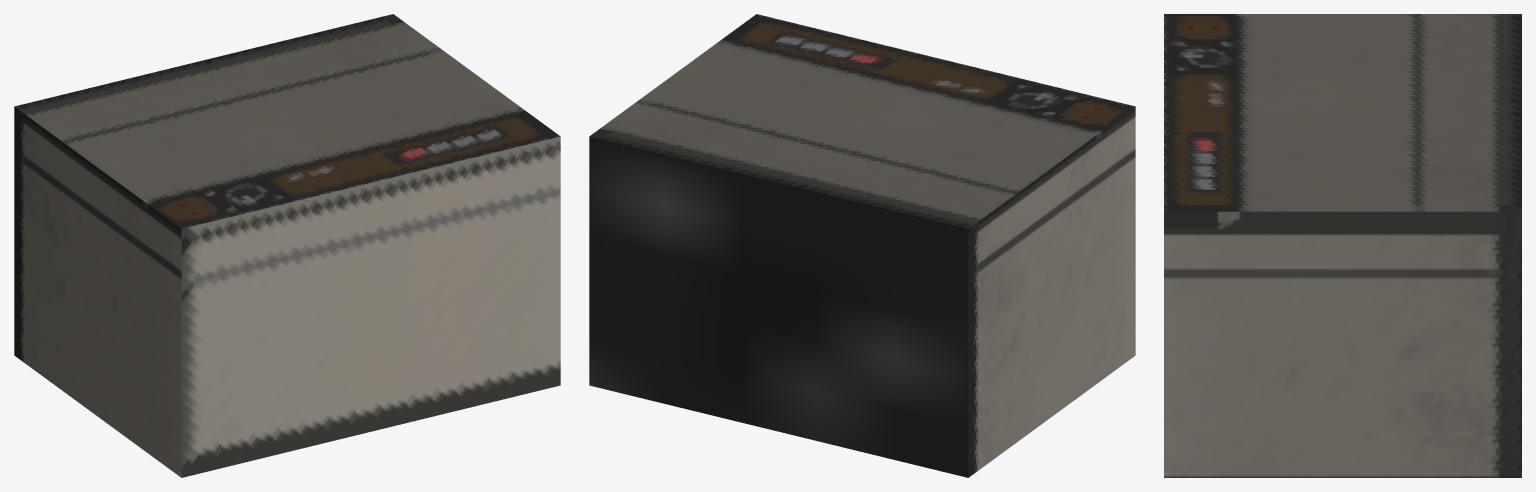
The model's file is pz_g016_brown_dishwasher.obj.
3 renders of one model, left to right at view 1: azimuth 30°, elevation 25°; view 2: azimuth 150°, elevation 25°; view 3: azimuth 270°, elevation 25°, orthographic. The views are drawn at different scales.
Visible parts, largest first — view 1: native_component_0_z+, native_component_0_y+, native_component_0_x-; view 2: native_component_0_z-, native_component_0_y+, native_component_0_x-; view 3: native_component_0_x+, native_component_0_y+.
Part boxes in pixels (x1,y1,x2,y2): native_component_0_z+: (181, 136, 560, 477); native_component_0_y+: (14, 14, 560, 228); native_component_0_x-: (14, 107, 181, 477); native_component_0_z-: (589, 136, 968, 477); native_component_0_y+: (589, 14, 1135, 228); native_component_0_x-: (968, 107, 1135, 477); native_component_0_x+: (1164, 211, 1521, 477); native_component_0_y+: (1164, 14, 1521, 211).
Bounding box in the file's own units: 0.9742 × 0.6113 × 0.7449.
1 material, 1 textured.
